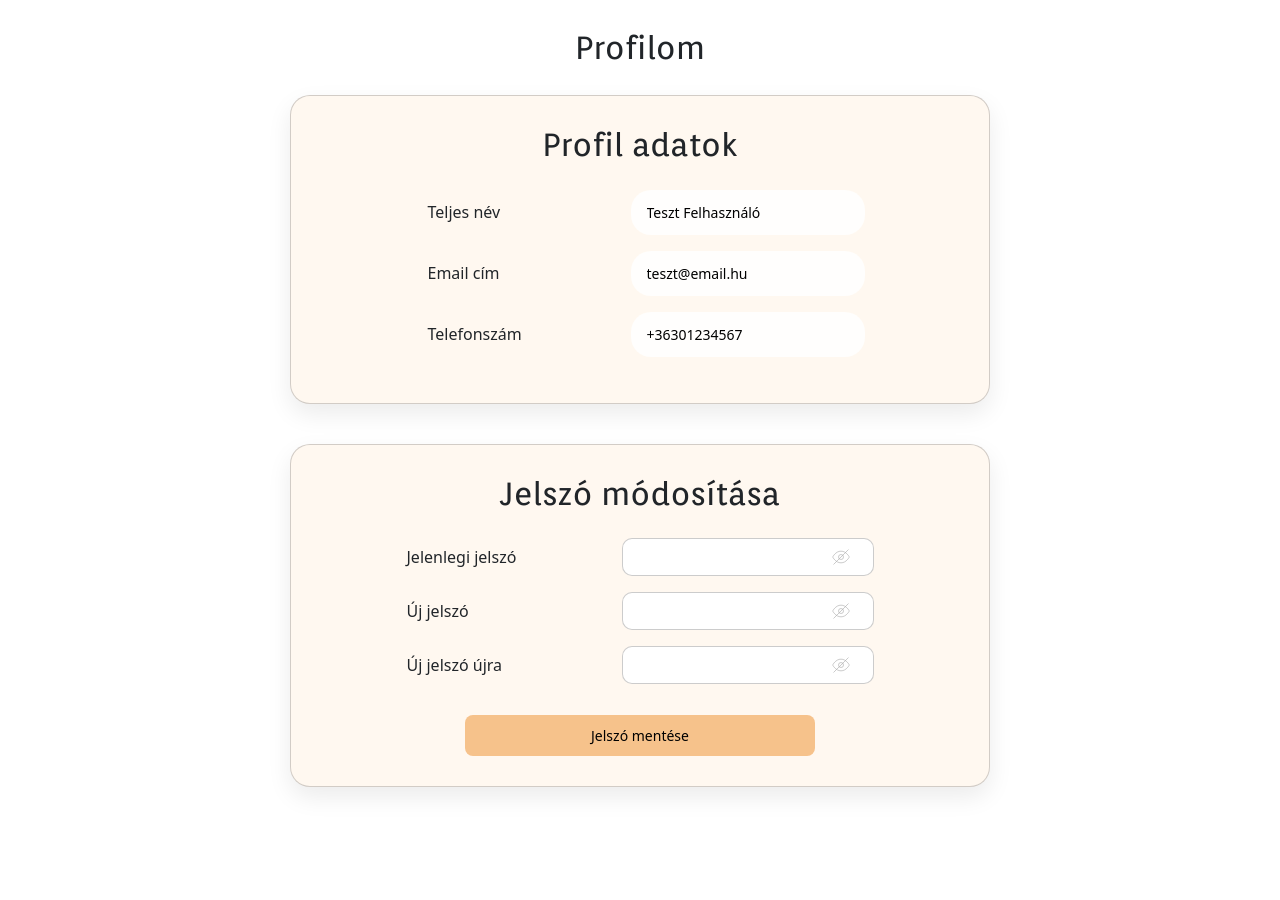
Test: Profile › validáció működik
This screenshot has width=1280, height=900.
Click the button "Jelszó mentése" at (640, 736), box [465, 715, 815, 756]
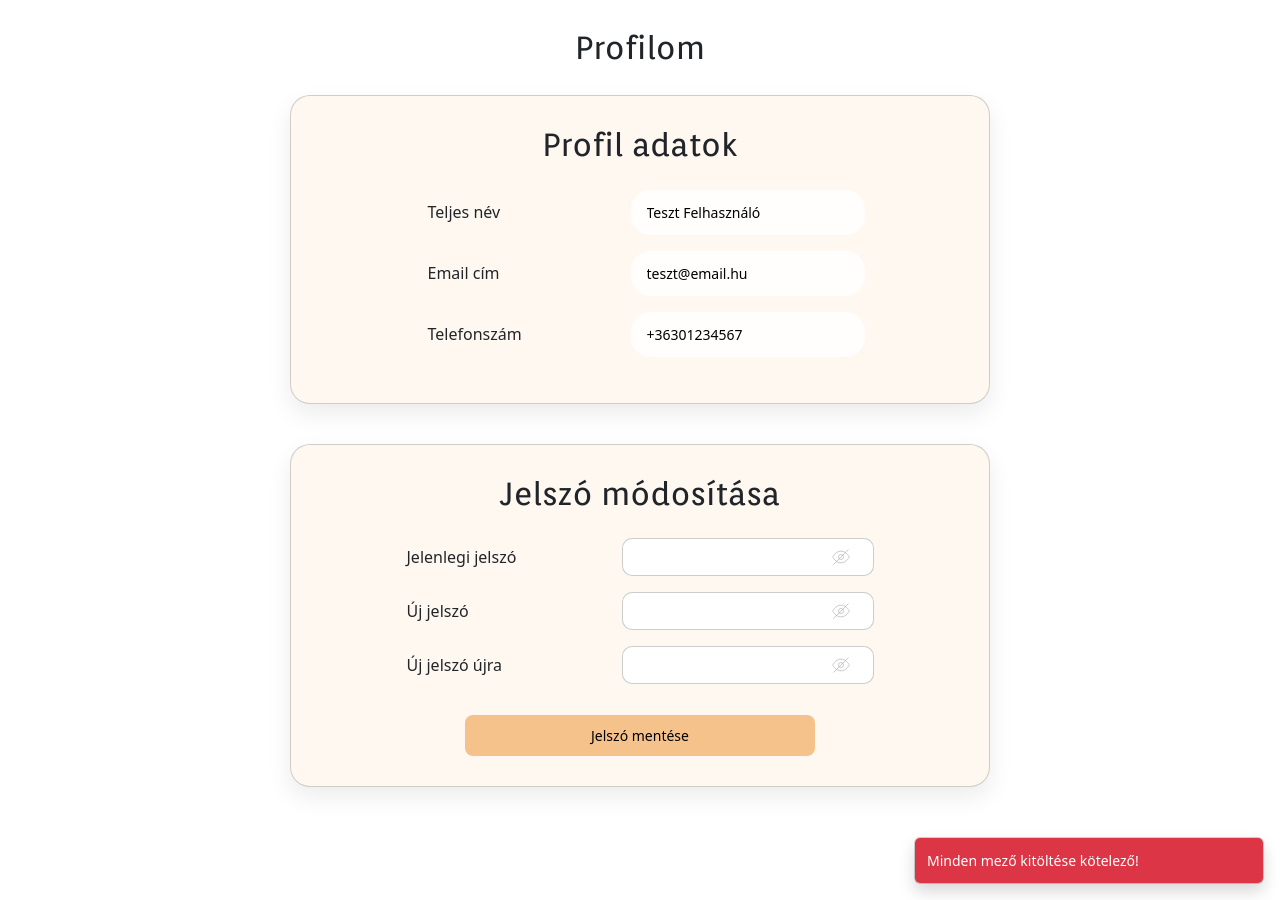
Check: the text "Minden mező kitöltése kötelező!" is shown, box [927, 851, 1139, 870]
